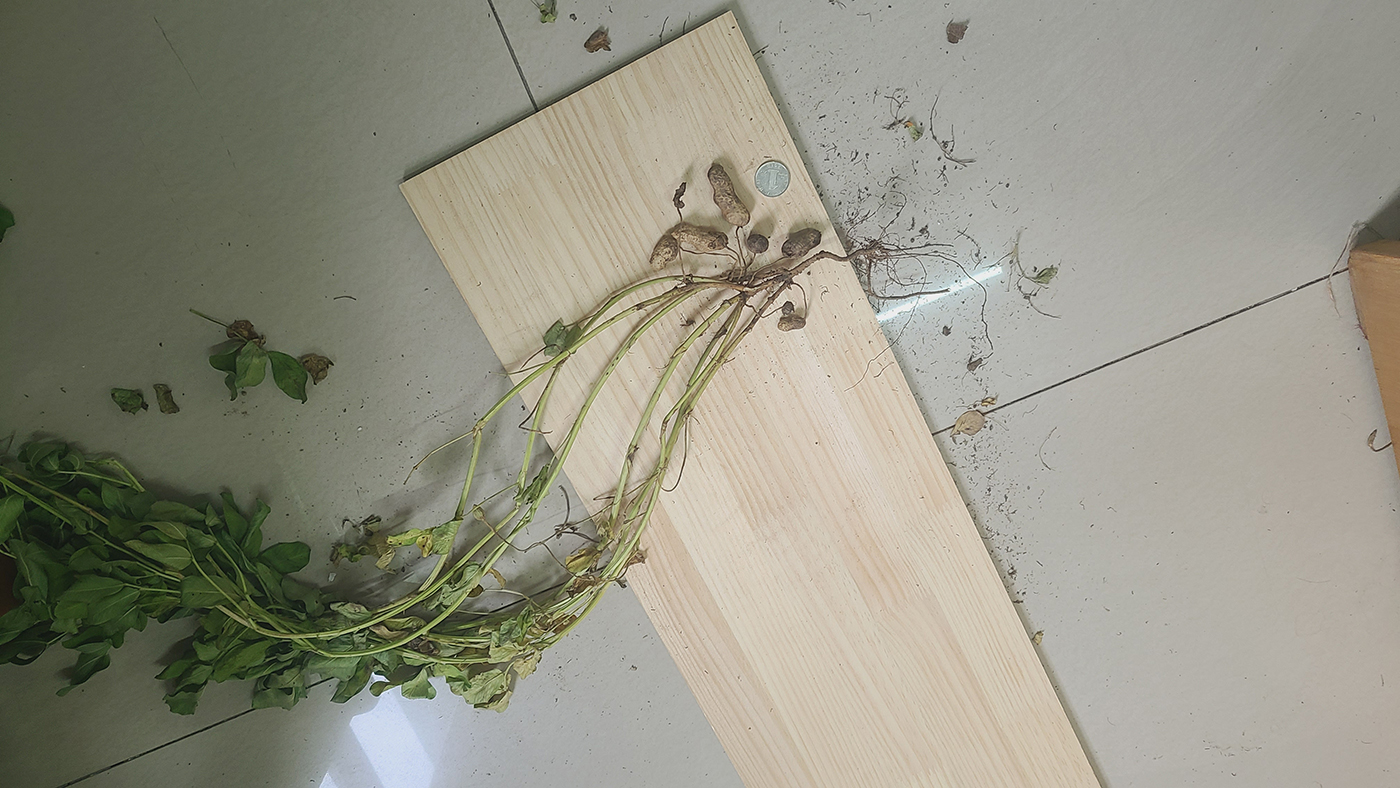h: (650, 238, 678, 270)
l: (707, 164, 750, 226), (672, 223, 729, 252), (781, 228, 822, 256), (744, 230, 769, 253), (778, 316, 807, 332), (672, 182, 686, 208), (781, 300, 794, 315)
